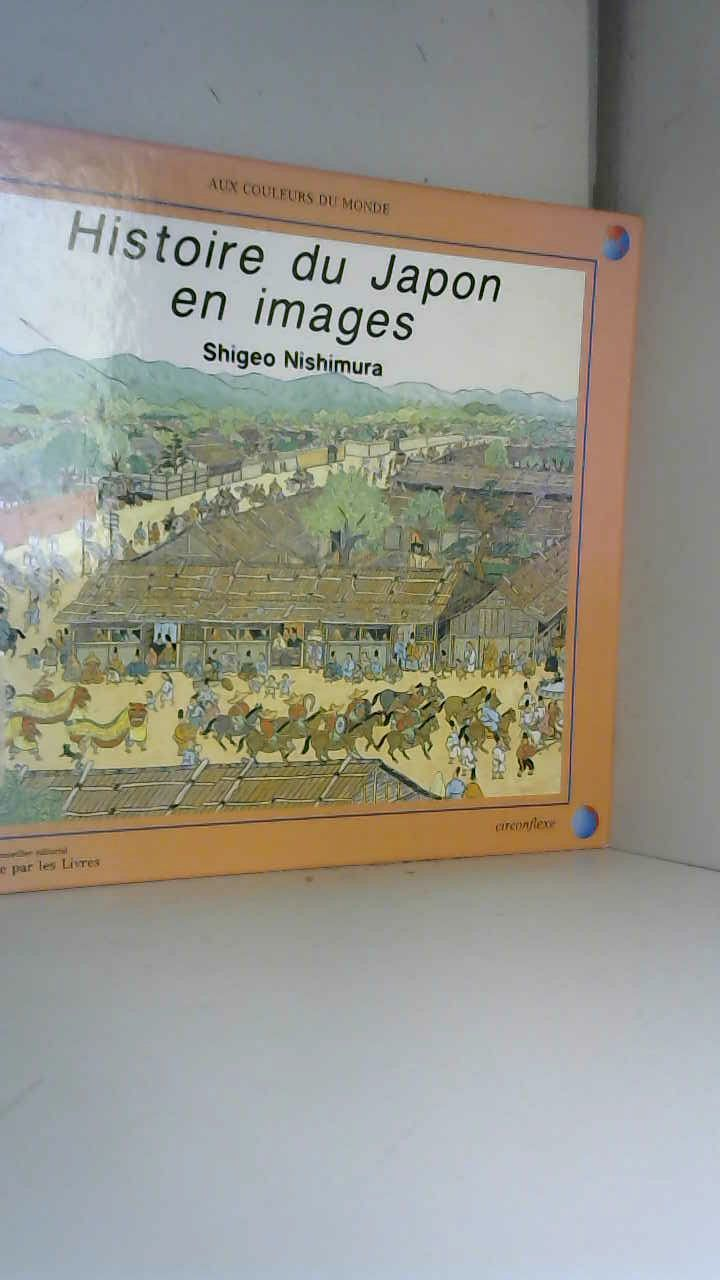book: (0, 91, 678, 938)
